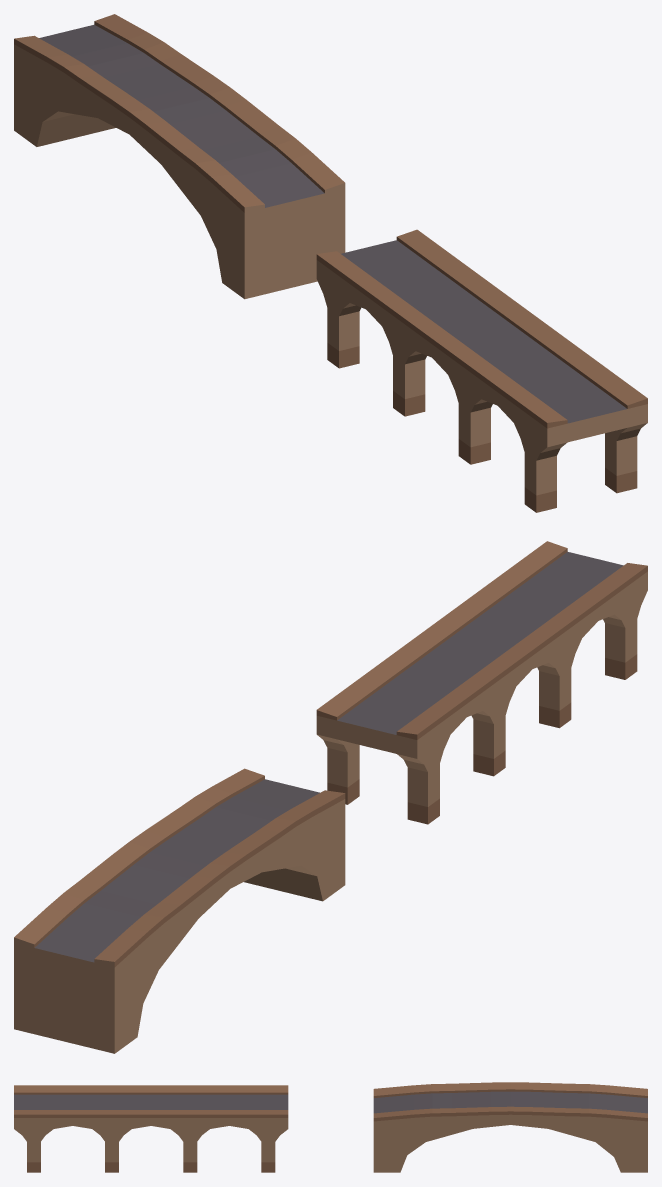
The model's file is venice bridge.fbx.
3 views of the same model, one above another, from view 1: azimuth 30°, elevation 25°; view 2: azimuth 150°, elevation 25°; view 3: azimuth 270°, elevation 25° (orthographic). The views are drawn at different scales.
Parts seen in each view (by area): view 1: Cube.001, Cube; view 2: Cube.001, Cube; view 3: Cube.001, Cube.
Part boxes in pixels (box(x1,y1,x2,y2)): Cube.001: box(14, 14, 345, 299); Cube: box(316, 229, 647, 512); Cube.001: box(14, 768, 345, 1053); Cube: box(316, 541, 647, 824); Cube.001: box(373, 1082, 647, 1172); Cube: box(14, 1085, 288, 1172).
Bounding box in the file's own units: 3539 × 3462 × 32434.
